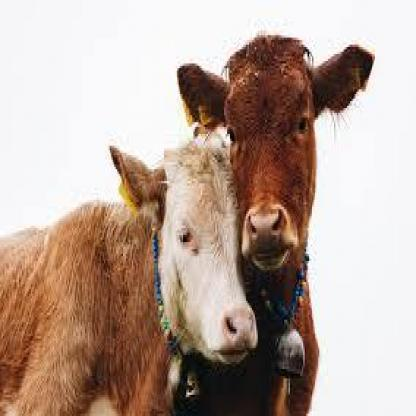cow: (177, 35, 375, 416), (2, 134, 259, 416)
